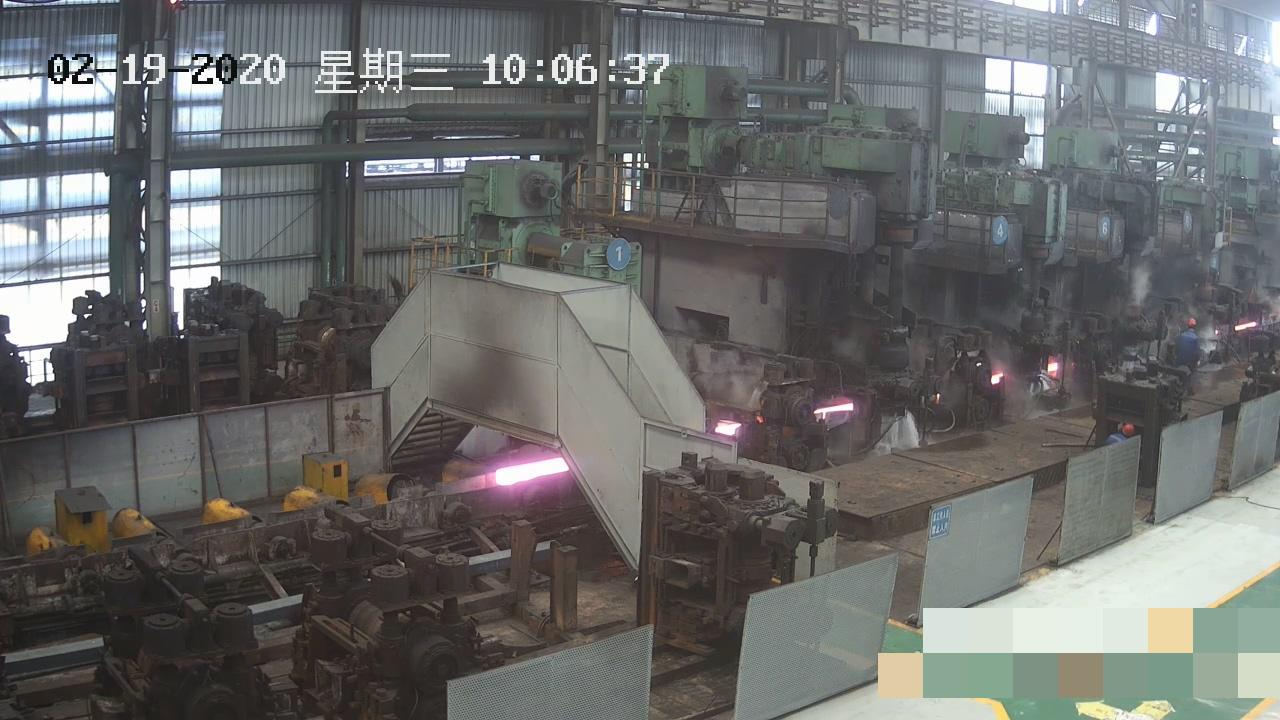hat: (1120, 422, 1135, 436), (1186, 317, 1196, 328)
person: (1174, 318, 1202, 397)
